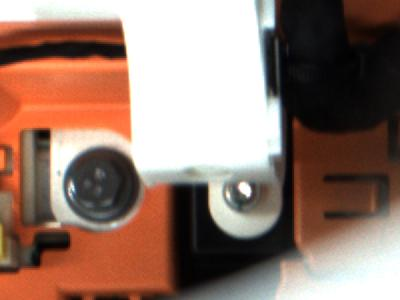nut_b: (60, 145, 133, 227)
